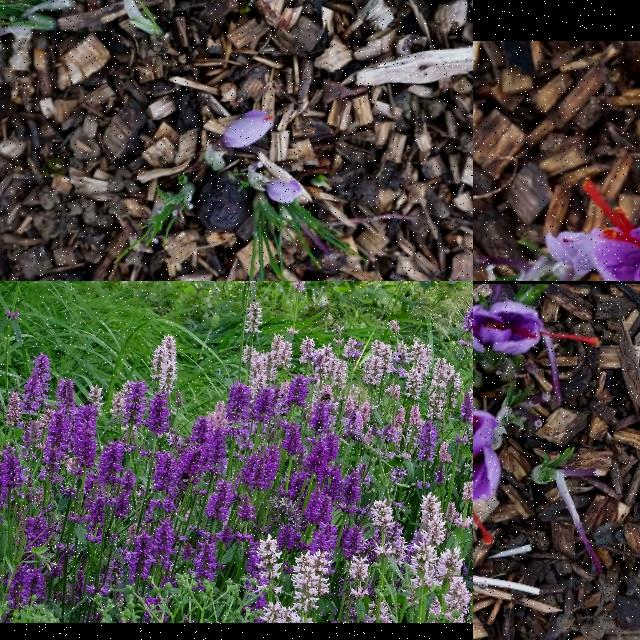flower: (565, 176, 640, 281), (473, 300, 602, 353), (473, 409, 500, 545), (222, 109, 274, 150), (266, 180, 304, 204)
